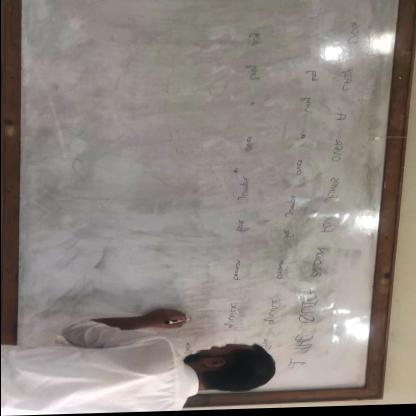Handwritten text: (281, 14, 375, 363), (243, 55, 333, 361), (202, 20, 284, 336)
Lecturer: (1, 314, 279, 415)
Whiteboard: (11, 0, 404, 408)
